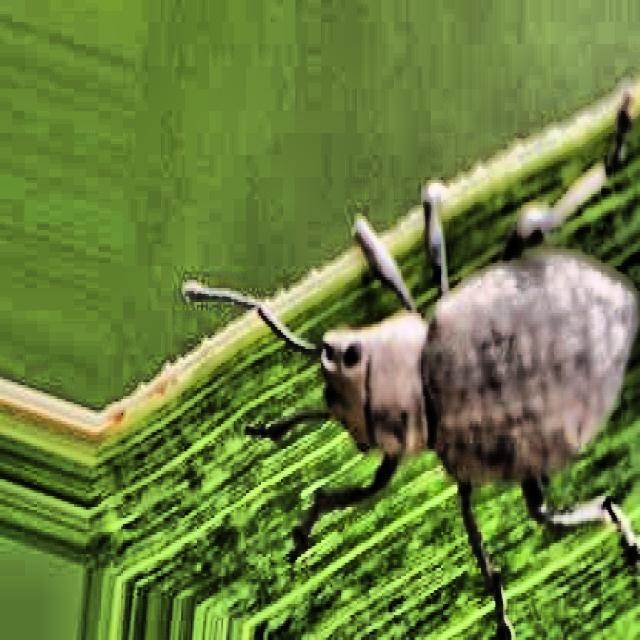Stink bug: (253, 181, 640, 588)
